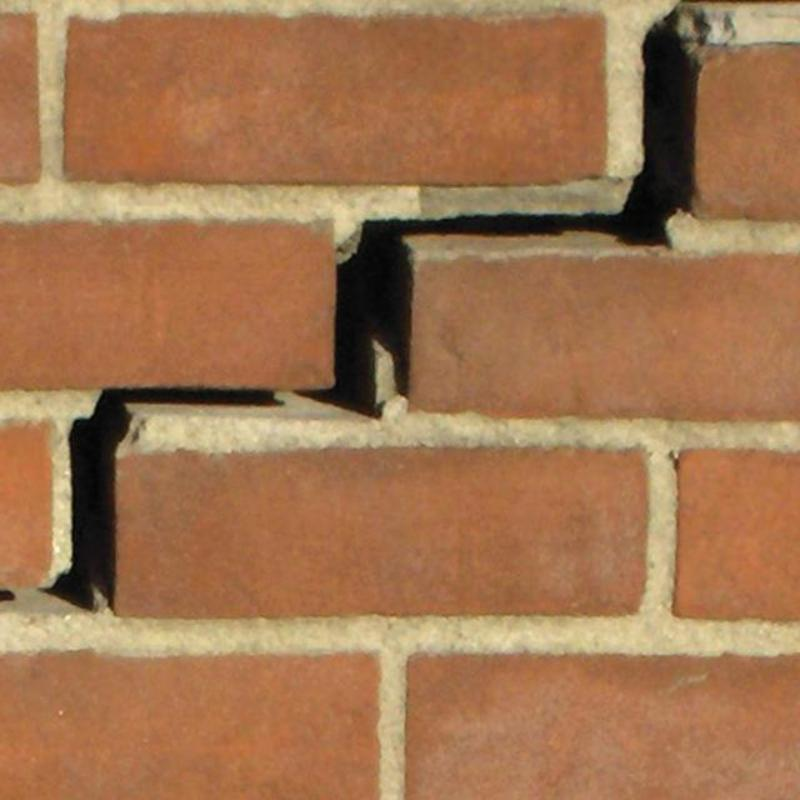crack: (302, 8, 698, 420), (50, 389, 284, 609)
